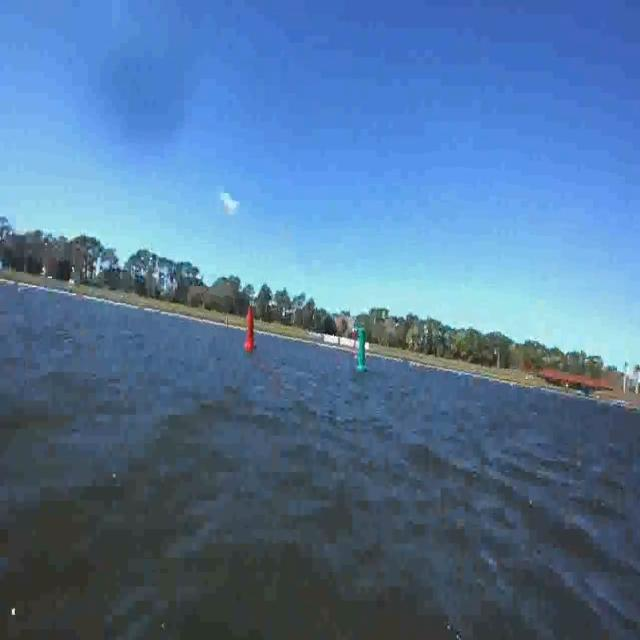green-column-buoy: (356, 327, 368, 372)
red-column-buoy: (242, 308, 255, 354)
